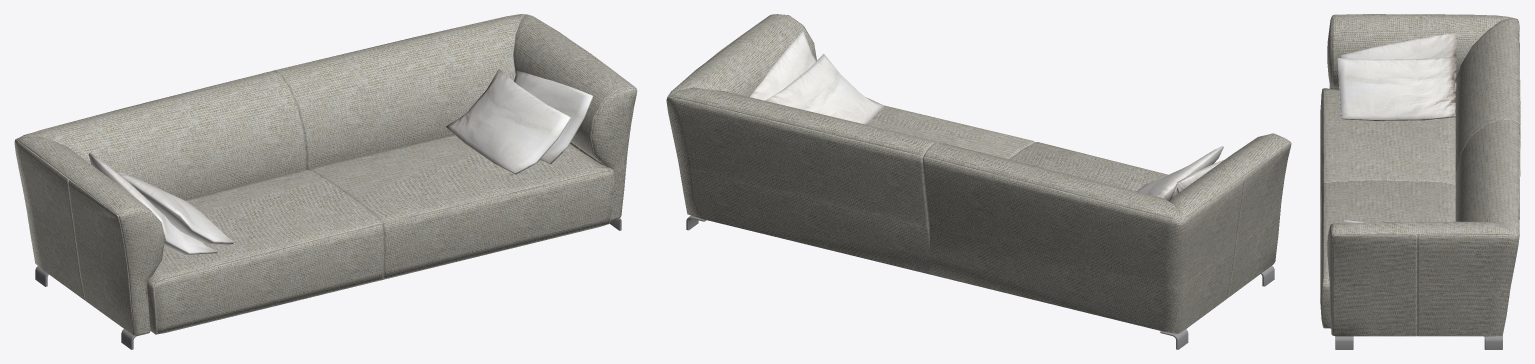
Rendered from LowPoly Couch A04.FBX.
The picture shows the model from 3 angles, left to right: view 1: azimuth 30°, elevation 25°; view 2: azimuth 150°, elevation 25°; view 3: azimuth 270°, elevation 25°; orthographic projection. The views are drawn at different scales.
Parts seen in each view (by area): view 1: Couch A01 A, Couch A01 B, Blue Cushion A01 A, Yellow Cushion A01 A, Blue Cushion A01 B, Yellow Cushion A01 B, Couch A01 C; view 2: Couch A01 A, Couch A01 B, Blue Cushion A01 A, Yellow Cushion A01 A, Blue Cushion A01 B, Couch A01 C; view 3: Couch A01 A, Couch A01 B, Blue Cushion A01 B, Yellow Cushion A01 B, Couch A01 C.
Boxes of the visible parts, x1=… form: Couch A01 A: x1=14, y1=14, x2=637, y2=335; Couch A01 B: x1=147, y1=134, x2=614, y2=334; Blue Cushion A01 A: x1=446, y1=69, x2=570, y2=174; Yellow Cushion A01 A: x1=514, y1=71, x2=592, y2=163; Blue Cushion A01 B: x1=114, y1=170, x2=233, y2=245; Yellow Cushion A01 B: x1=88, y1=152, x2=217, y2=254; Couch A01 C: x1=35, y1=218, x2=621, y2=349; Couch A01 A: x1=666, y1=14, x2=1291, y2=333; Couch A01 B: x1=867, y1=105, x2=1167, y2=191; Blue Cushion A01 A: x1=765, y1=54, x2=884, y2=124; Yellow Cushion A01 A: x1=750, y1=31, x2=816, y2=100; Blue Cushion A01 B: x1=1136, y1=146, x2=1223, y2=200; Couch A01 C: x1=686, y1=215, x2=1274, y2=349; Couch A01 A: x1=1327, y1=14, x2=1520, y2=336; Couch A01 B: x1=1320, y1=88, x2=1455, y2=328; Blue Cushion A01 B: x1=1337, y1=57, x2=1455, y2=120; Yellow Cushion A01 B: x1=1340, y1=33, x2=1456, y2=115; Couch A01 C: x1=1335, y1=335, x2=1502, y2=349.
Size of the model in its own units: 96.36 by 25.79 by 36.96.
4 materials, 3 textured.
